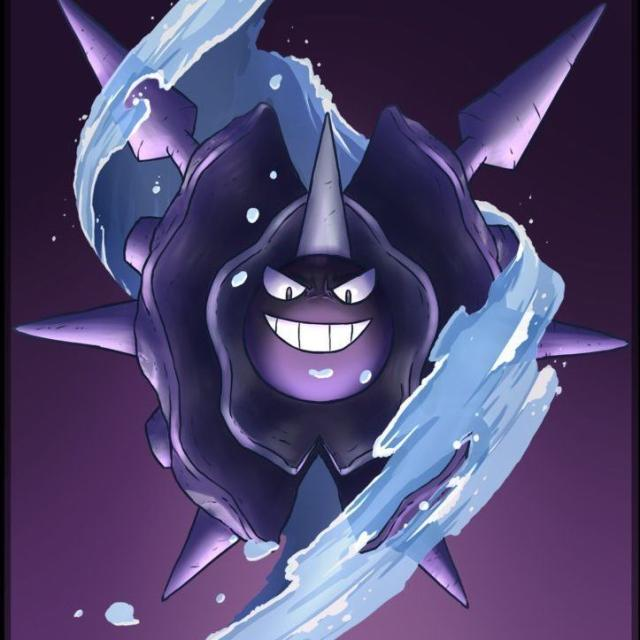Cloyster: (135, 97, 518, 594)
